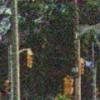traffic lights: (26, 47, 34, 69)
